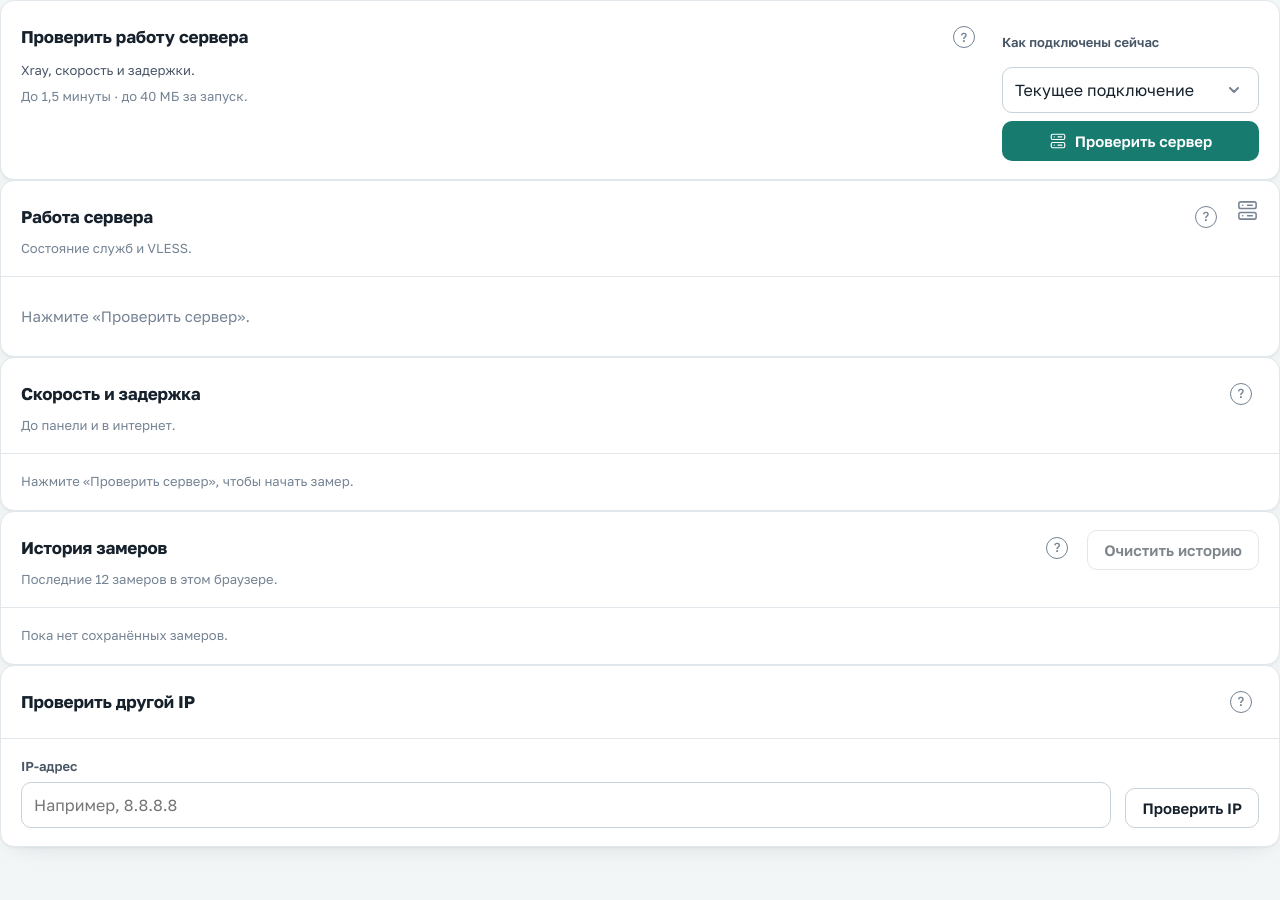
Test case: server diagnostics › waits for the health check before measuring and stops without saving a partial run
The image size is (1280, 900).
What coordinates should you click on to do the following:
click the button "Проверить сервер"
I would click on:
 (1130, 140)
Its box is [1002,120,1259,160].
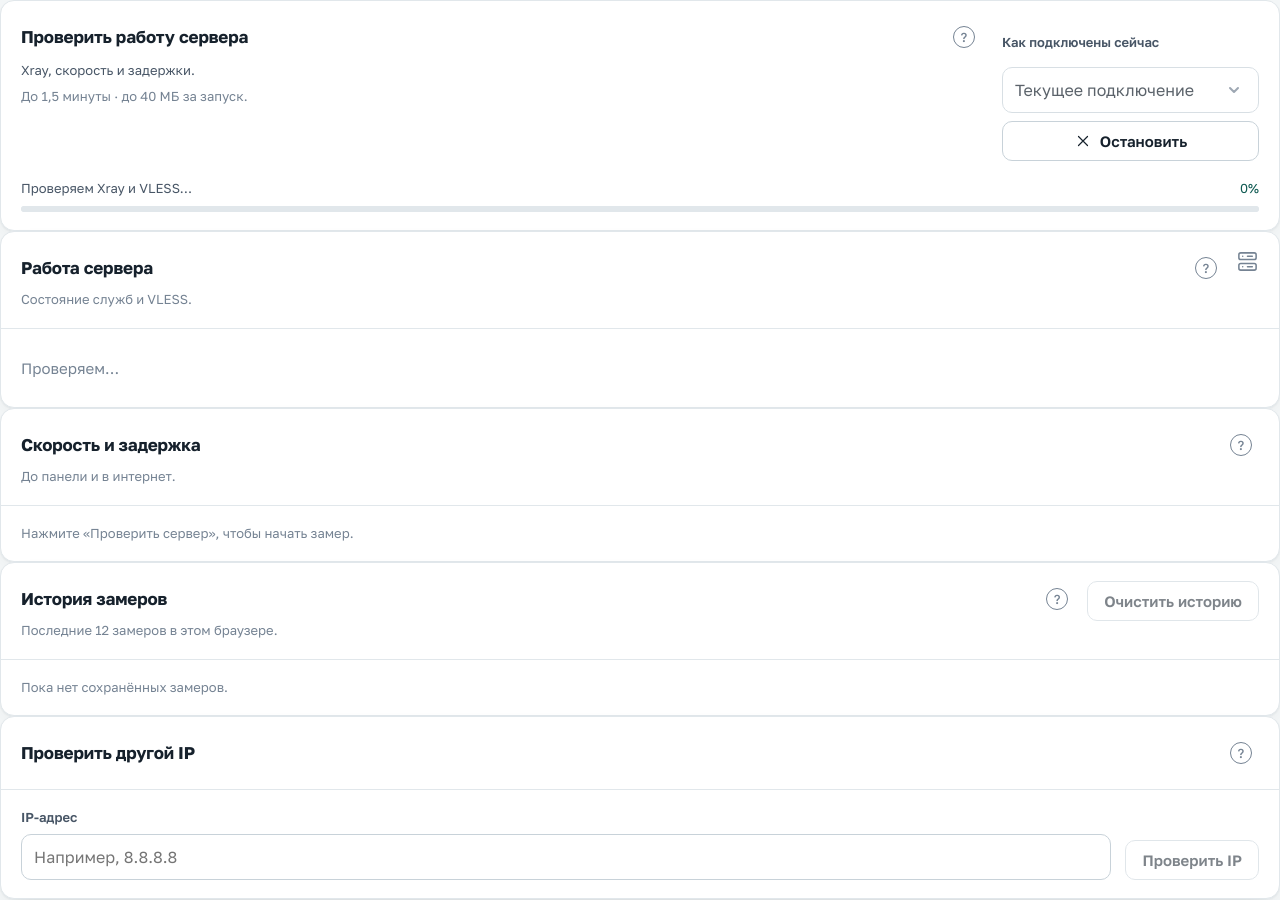
Expected: the button "Остановить" is shown
What coordinates should you click on to do the following:
click the button "Остановить"
I would click on:
 (1130, 140)
Its box is [1002,120,1259,160].
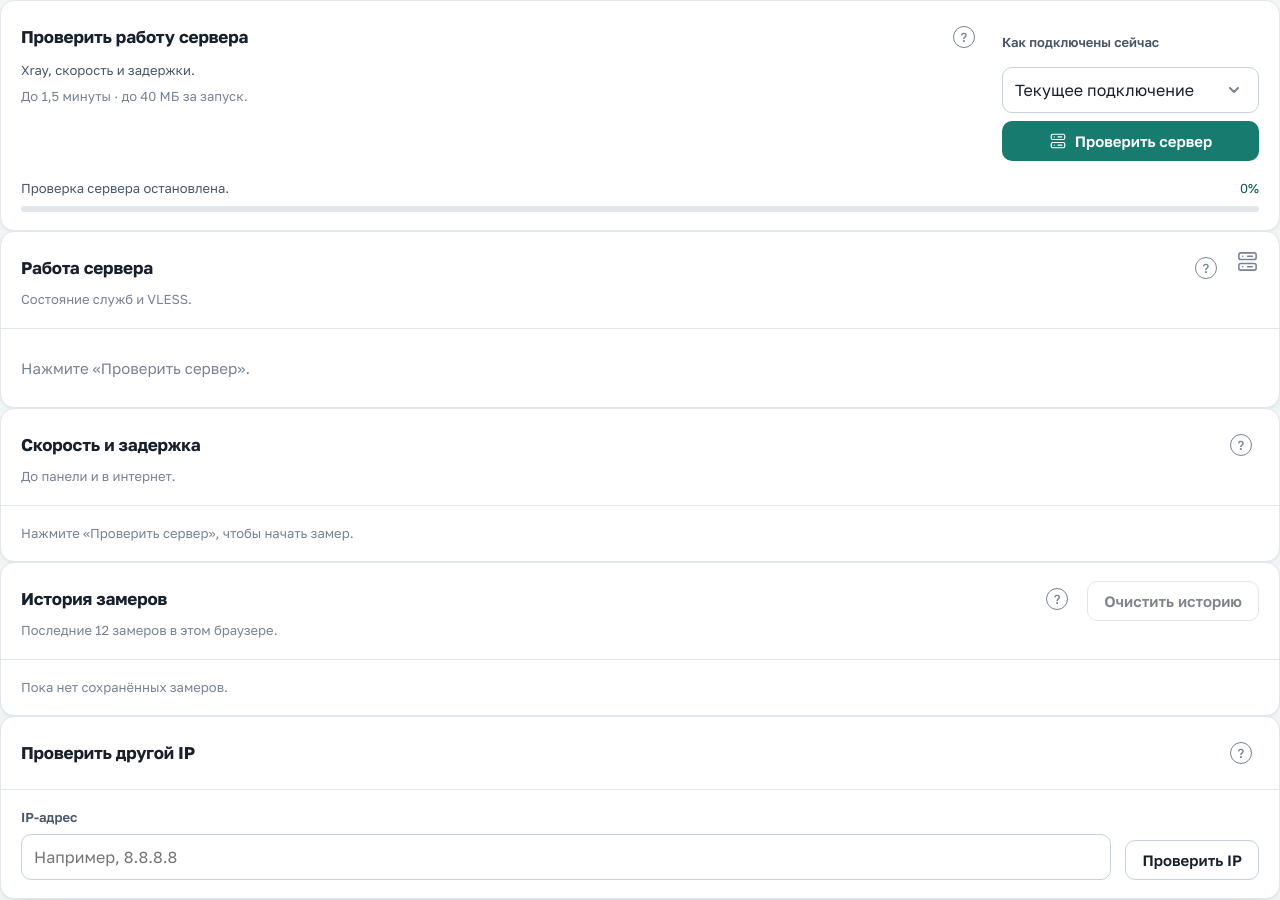
Expected: the text "Проверка сервера остановлена." is shown, [21,178,229,198]
